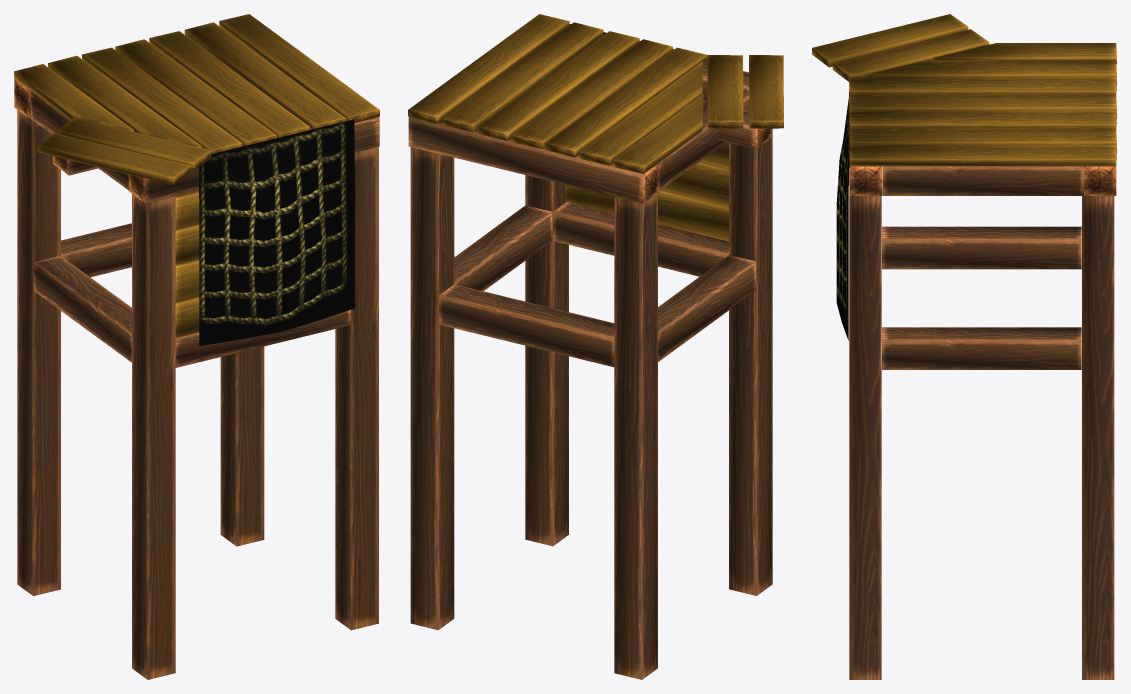
The model's file is INST_HTOWN_PLAYPLAT2.fbx.
3 renders of one model, left to right at view 1: azimuth 30°, elevation 25°; view 2: azimuth 150°, elevation 25°; view 3: azimuth 270°, elevation 25°, orthographic.
Visible parts, largest first — view 1: INST_HTOWN_PLAYPLAT2; view 2: INST_HTOWN_PLAYPLAT2; view 3: INST_HTOWN_PLAYPLAT2.
Part boxes in pixels (<box>): INST_HTOWN_PLAYPLAT2: <box>14,14,379,679</box>; INST_HTOWN_PLAYPLAT2: <box>408,14,783,679</box>; INST_HTOWN_PLAYPLAT2: <box>812,14,1116,679</box>.
Bounding box in the file's own units: 32738 × 54646 × 28975.
Materials: 3 (3 with a texture image).
